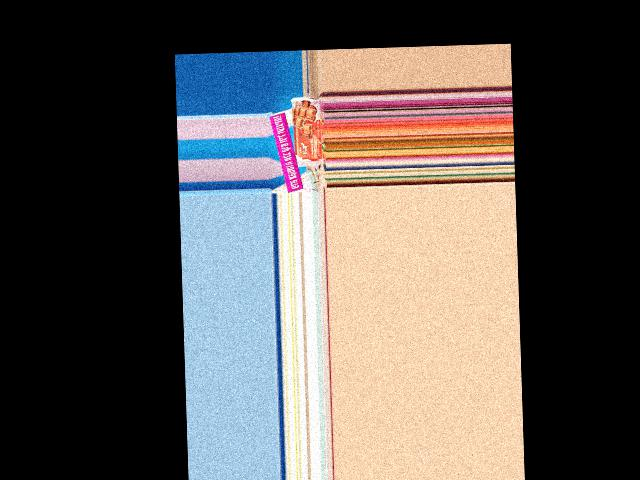chocolate: (289, 94, 324, 168)
